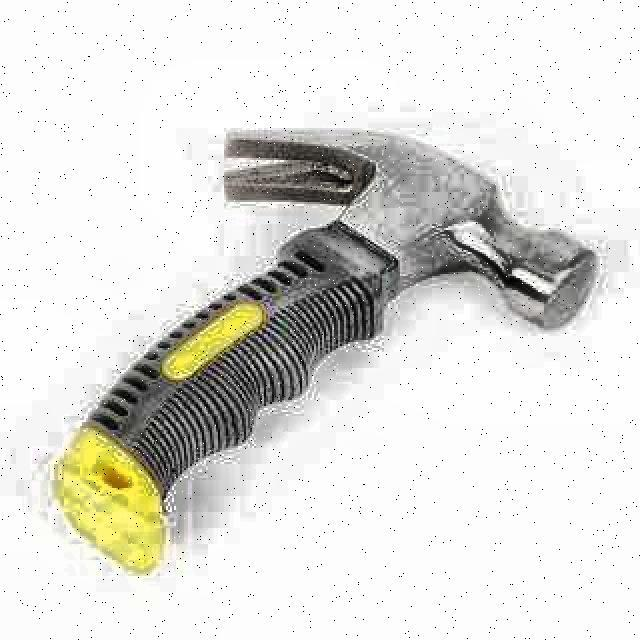hammer: (51, 118, 610, 570)
